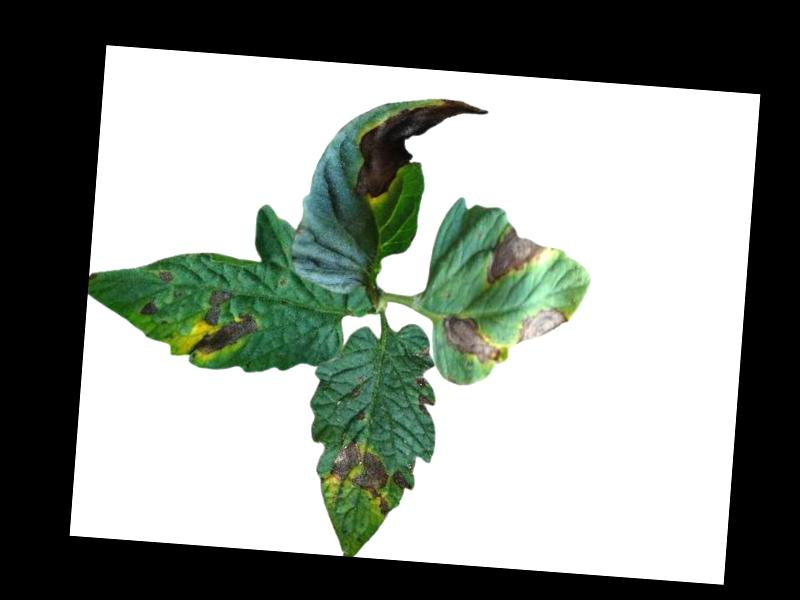Early_blight: (353, 92, 488, 206), (326, 437, 397, 515), (186, 287, 258, 359), (487, 225, 552, 287), (441, 311, 505, 365), (517, 304, 571, 347), (414, 374, 434, 416), (391, 468, 413, 493), (141, 299, 160, 317), (157, 267, 175, 282)
